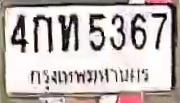3: (109, 13, 125, 50)
4: (10, 13, 26, 52)
5: (88, 12, 105, 50)
6: (130, 12, 146, 49)
7: (150, 12, 166, 49)
A01: (31, 14, 52, 52)
A23: (57, 13, 78, 51)
BKK: (27, 64, 151, 91)
